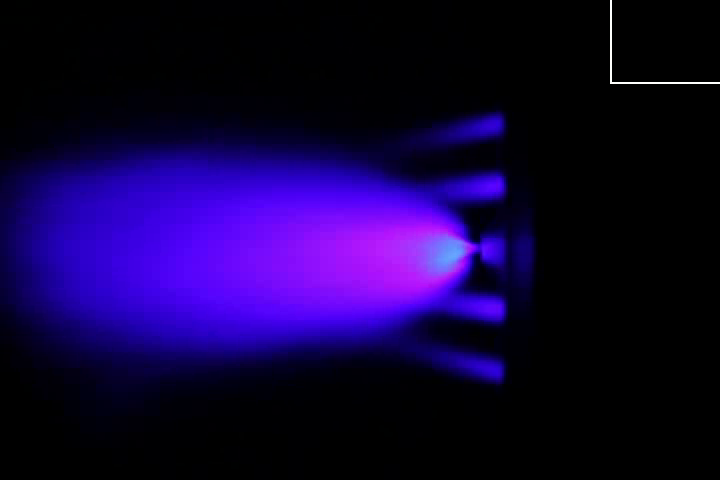burner cap: (481, 237, 507, 269)
pilot flame: (381, 334, 506, 382), (395, 111, 500, 150), (419, 170, 504, 208), (431, 290, 509, 328)
stable: (342, 212, 483, 290)
